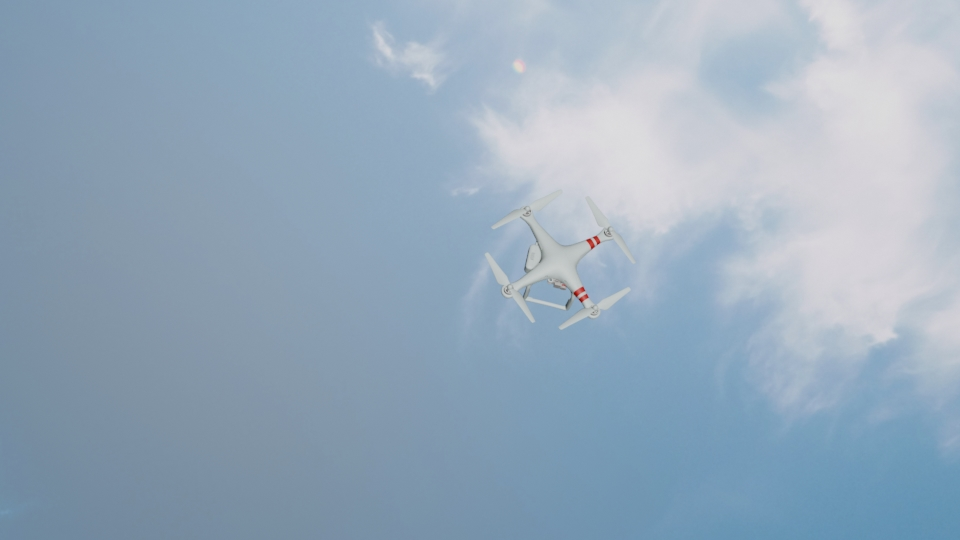drone: (487, 188, 633, 331)
